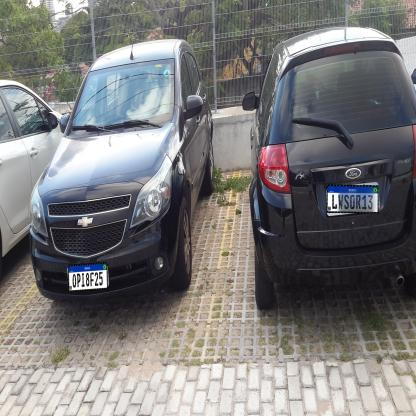PlacaM: (326, 184, 378, 214), (68, 262, 108, 292)
